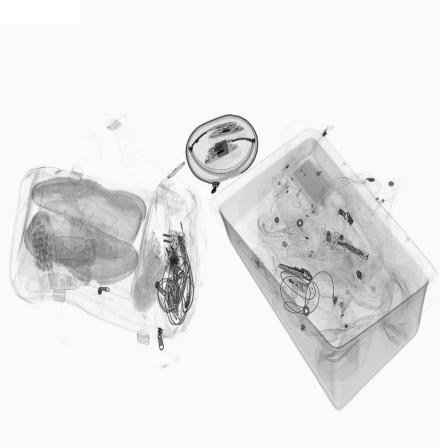Lighter: (274, 265, 310, 295)
